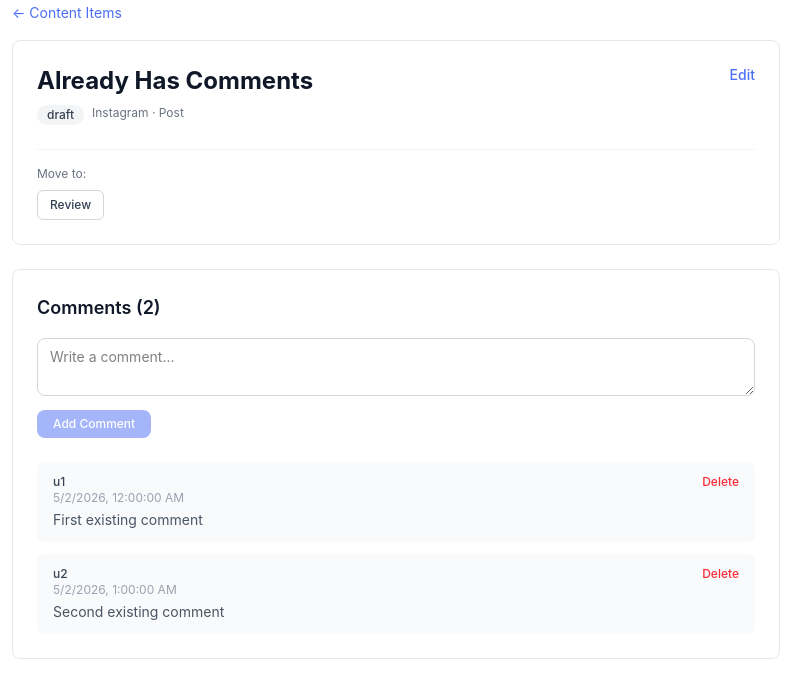
ContentDetail — navigation/import behavior preservation (lint hardening) › handleDeleteComment: deletes from initially populated comments array (isolated, no add-before-delete)
The width and height of the screenshot is (797, 676).
Expected: the heading "Already Has Comments" is shown, [37,65,313,97]
Expected: the text "First existing comment" is shown, [53,511,203,528]
Click the button "Delete" in the row of "u1".
click(721, 482)  # box [702,474,739,490]
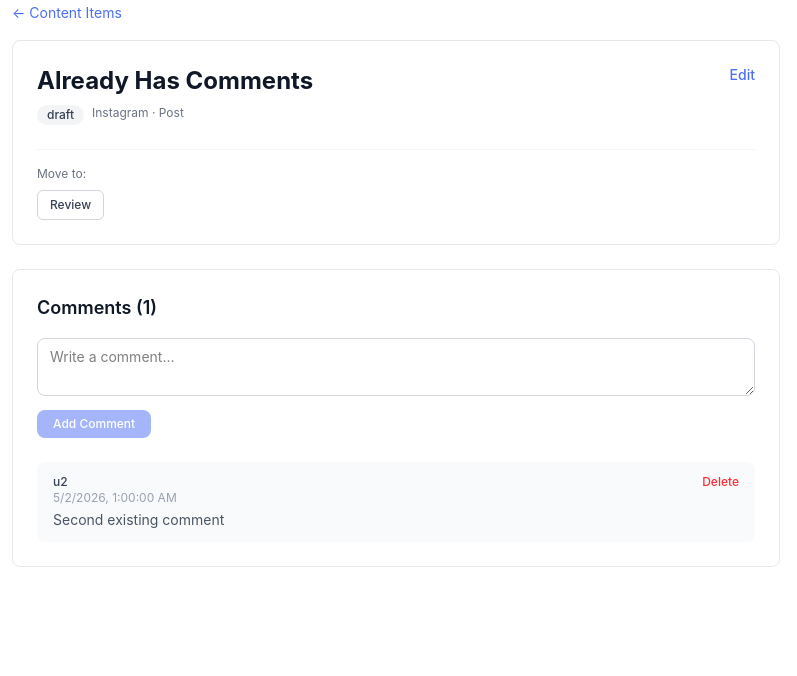
Expected: the text "Second existing comment" is shown, [53,511,224,528]
Expected: the text "First existing comment" is gone
Expected: the heading "Comments (1)" is shown, [37,297,157,318]
